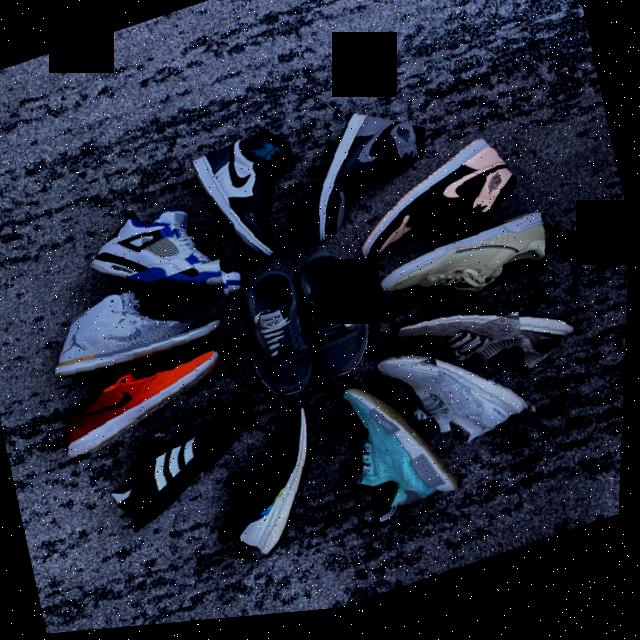shoe: (88, 380, 292, 551), (69, 171, 256, 351), (360, 319, 551, 491), (310, 358, 475, 552), (384, 271, 598, 420), (275, 90, 454, 265), (193, 393, 354, 584), (341, 134, 544, 284), (36, 261, 242, 406), (48, 336, 247, 475), (367, 216, 569, 348), (181, 115, 328, 285), (222, 251, 340, 426), (285, 236, 399, 411)
